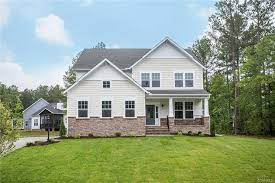Building House: (61, 35, 216, 139)
